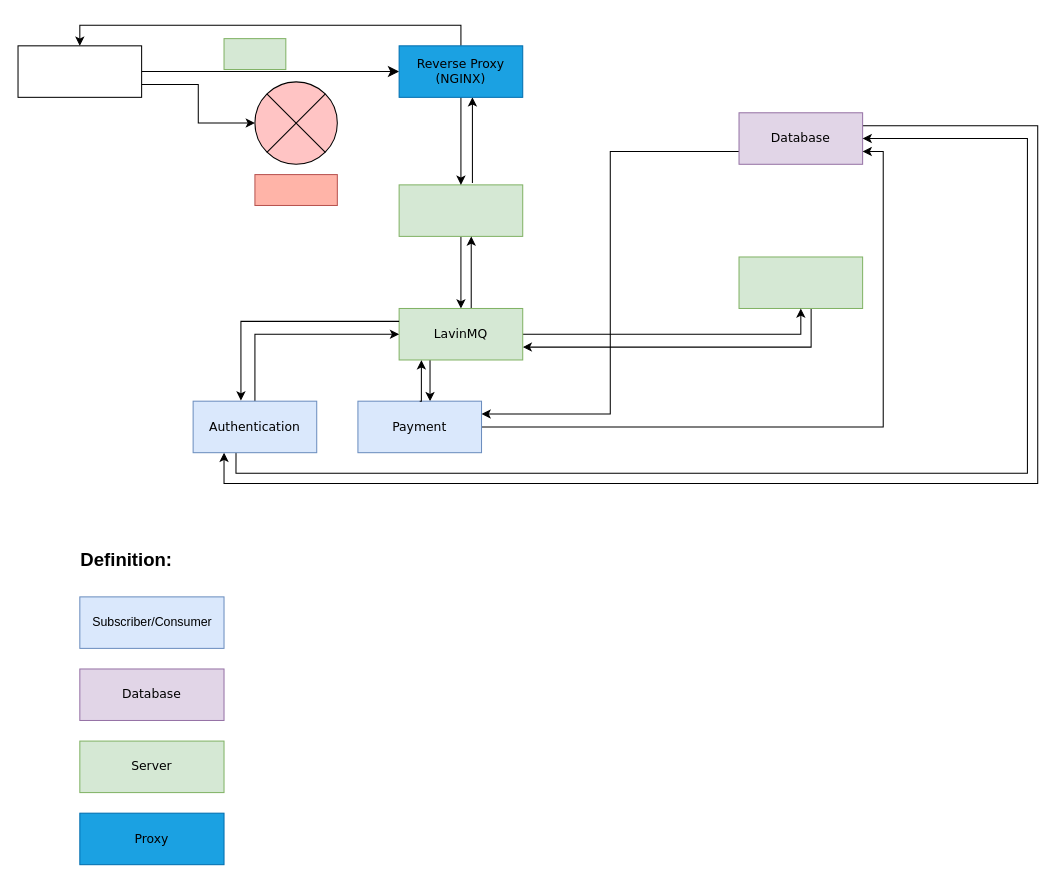
Image size: 1064x883. Some labels were removed from this diagram. The shapes that lost their labels are listed below. From the top down, each one's box as (x1, y1, x2, y2) in pixels, then its label:
(17, 45, 142, 97): Client
(223, 38, 286, 70): Safe IP
(254, 174, 337, 205): Insecure IP
(398, 184, 523, 236): Server/Producer
(738, 256, 863, 308): Mail Server
